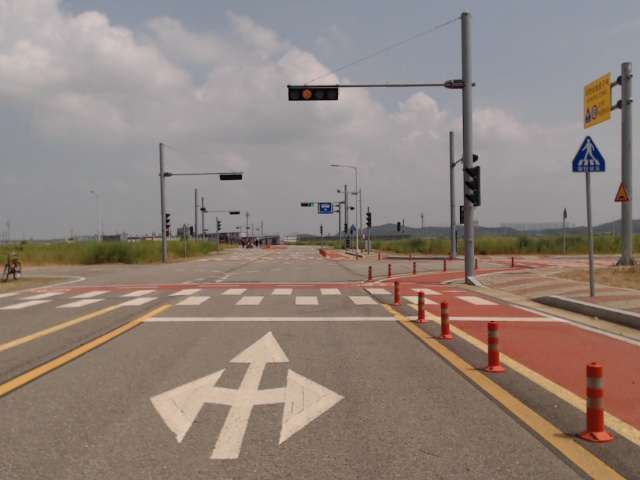orange_4: (287, 84, 338, 100)
